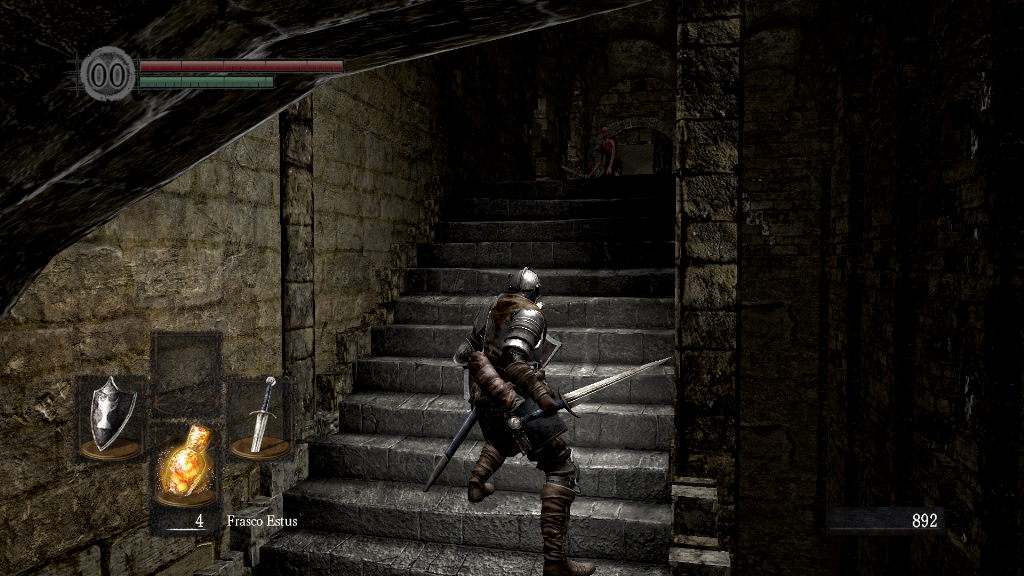health: (138, 58, 343, 71)
hollow: (586, 127, 618, 177)
humanity: (80, 45, 136, 102)
player: (424, 267, 675, 576)
souls: (825, 506, 945, 536)
stamina: (138, 74, 274, 88)
